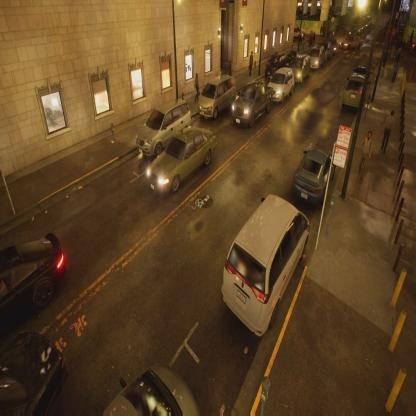License-Plate: (236, 287, 247, 308), (300, 190, 309, 202), (149, 181, 157, 194), (235, 118, 241, 127), (351, 93, 356, 101), (200, 111, 205, 117), (138, 147, 142, 154)
